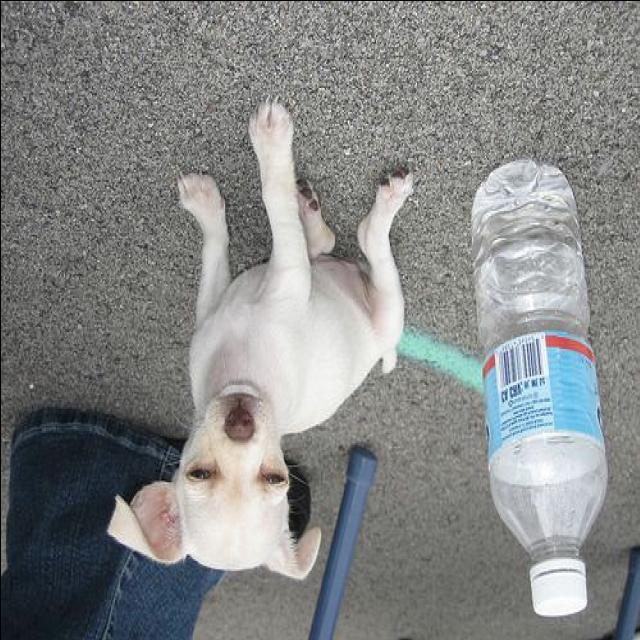chihuahua: (101, 90, 415, 580)
